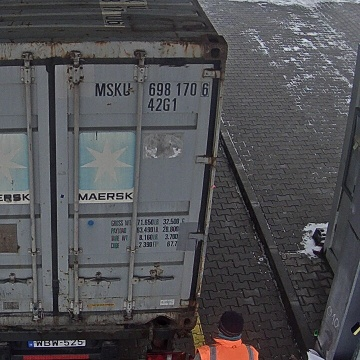serial_id: (96, 82, 208, 96)
